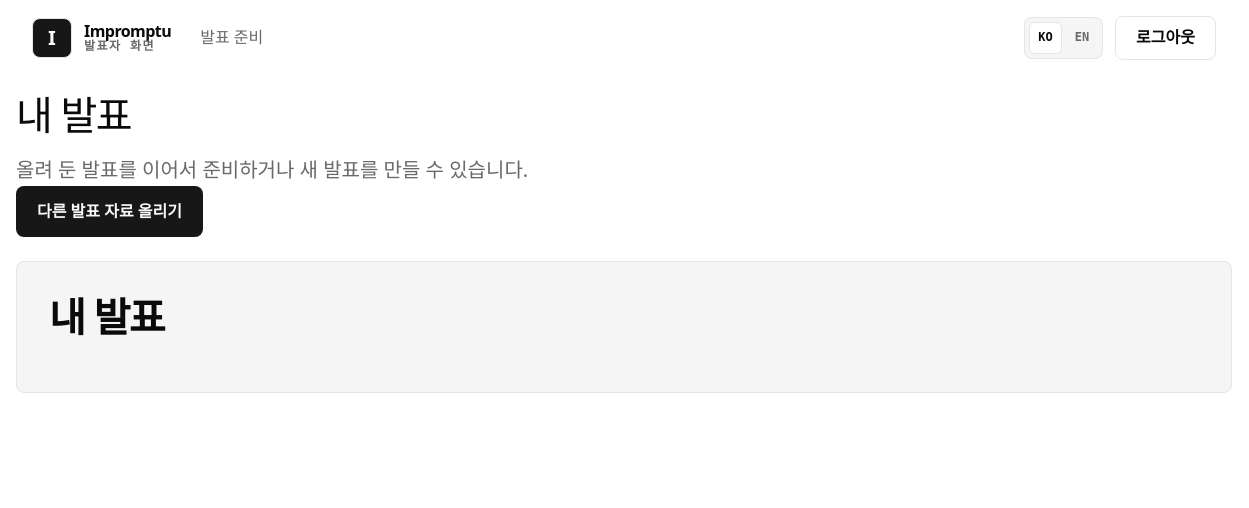
Scenario: Console presentation library › a failed delete keeps the row and reports the error
Click the button with aria-label "English" at (1082, 38), box [1066,22,1098,54]
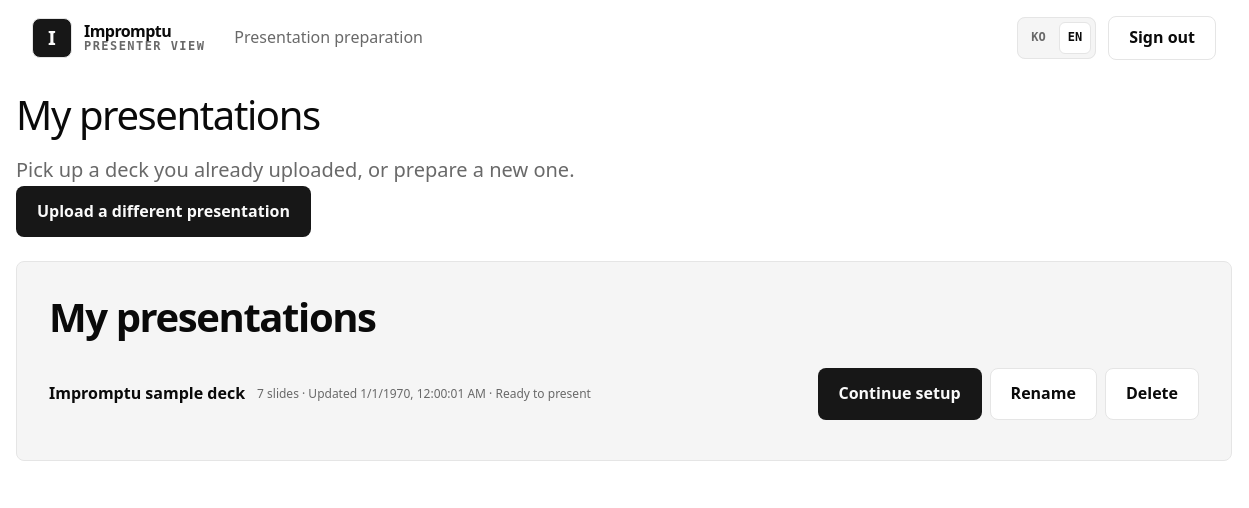
Click the button "Delete" at (1152, 394), box [1105,368,1199,420]
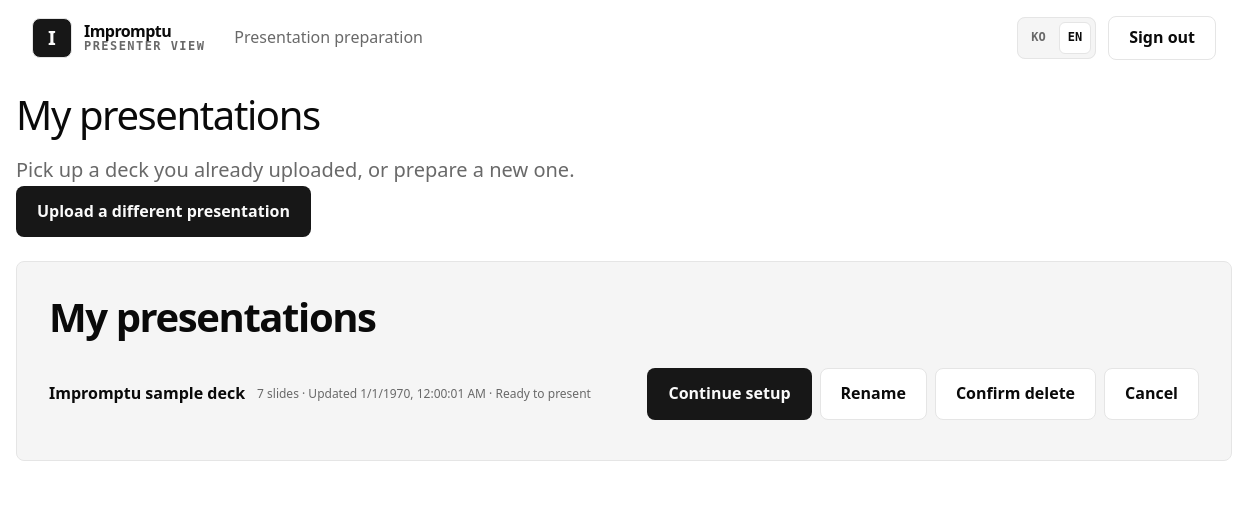
Click the button "Confirm delete" at (1015, 394), box [935,368,1096,420]
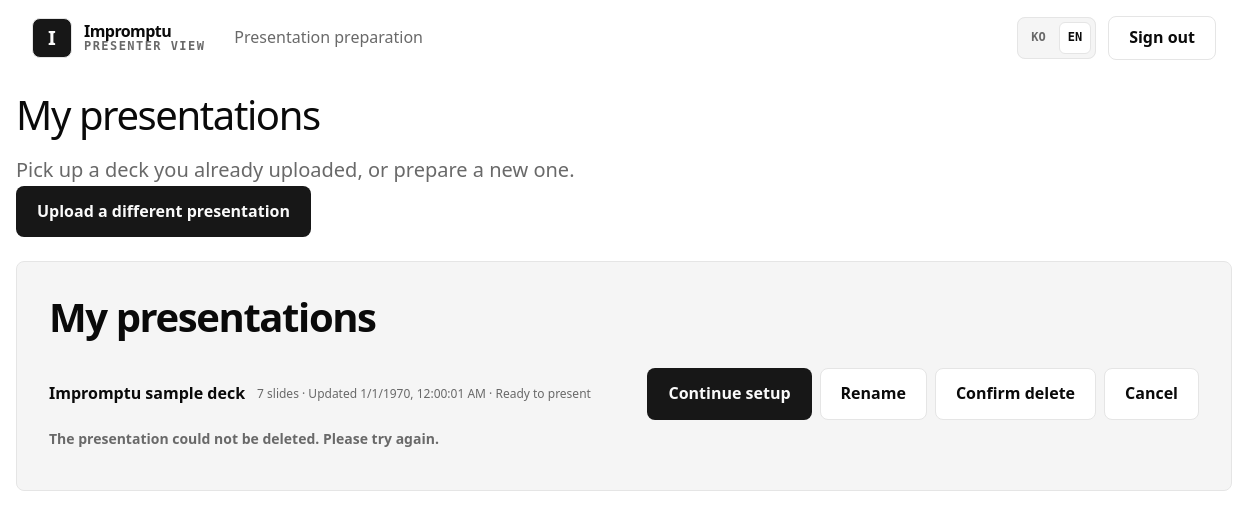
Check: the text "Impromptu sample deck" is shown, box [49,381,245,407]
Check: the text "The presentation could not be deleted. Please try again." is shown, box [49,428,439,450]
